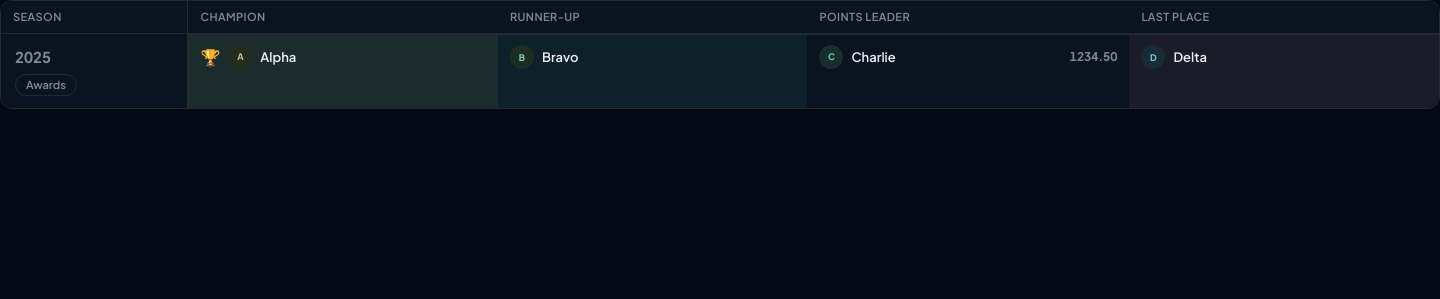
it: past award winners (US4) › renders each kind’s title and winners with the Superlatives page’s own rendering, and links to that page
The image size is (1440, 299).
Click the button "Awards" at (46, 85), box [15,74,77,96]
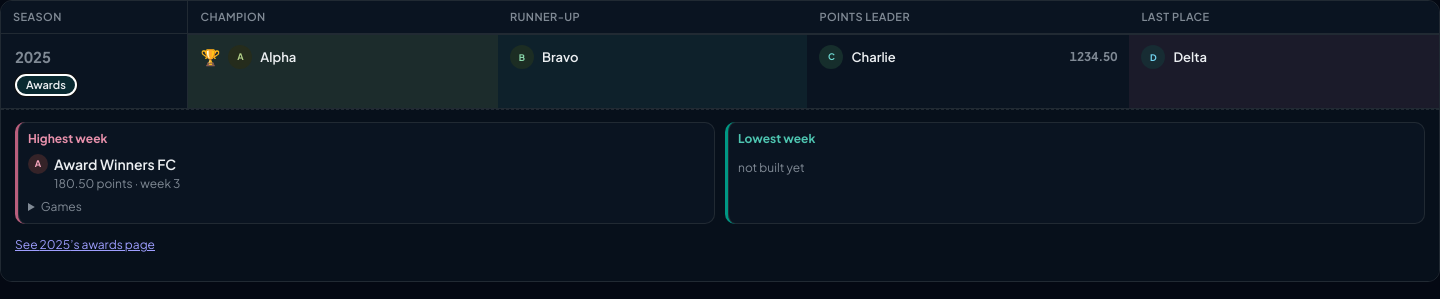
Check: the heading "Highest week" is shown, box [28,131,108,146]
Check: the text "Award Winners FC" is shown, box [54,156,176,174]
Check: the text "180.50 points · week 3" is shown, box [54,176,180,191]
